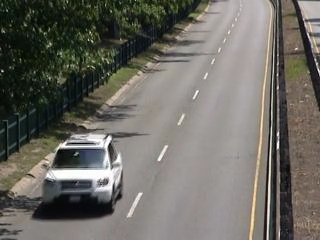car: (34, 129, 128, 220)
